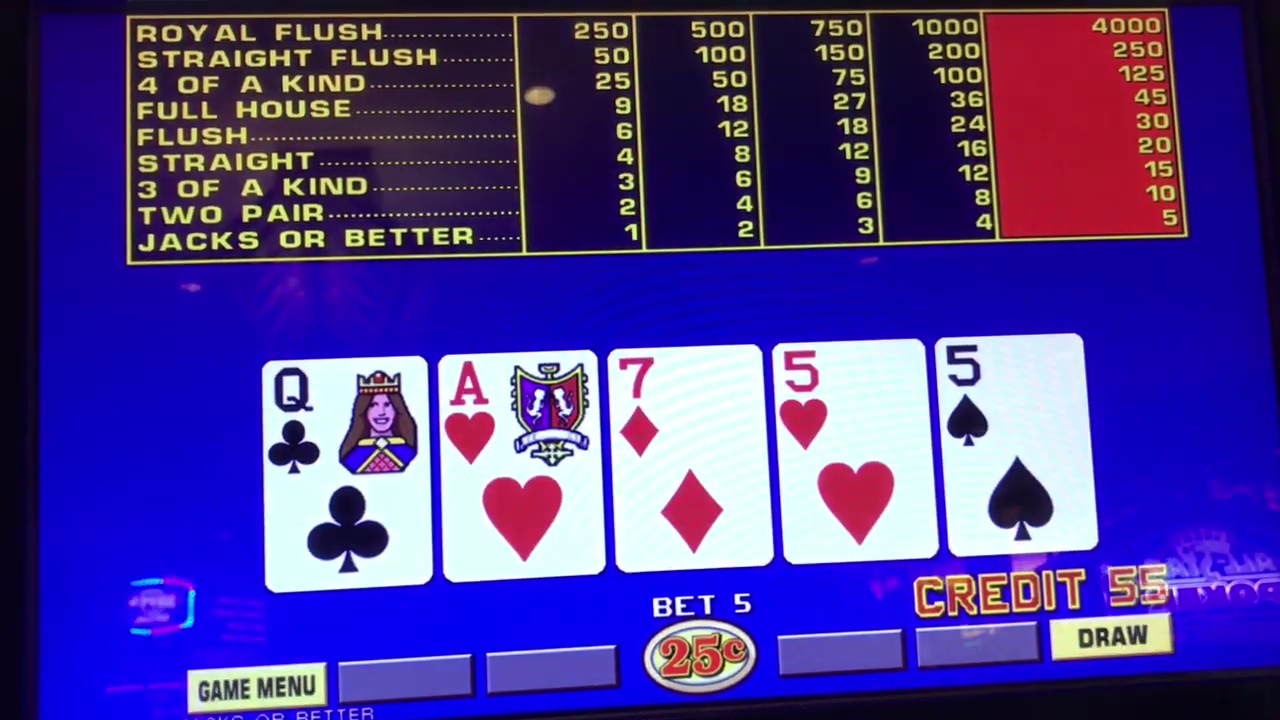CQ: (276, 360, 418, 474)
D7: (614, 351, 760, 458)
H5: (787, 347, 920, 453)
HA: (442, 354, 591, 463)
S5: (948, 339, 1085, 443)
